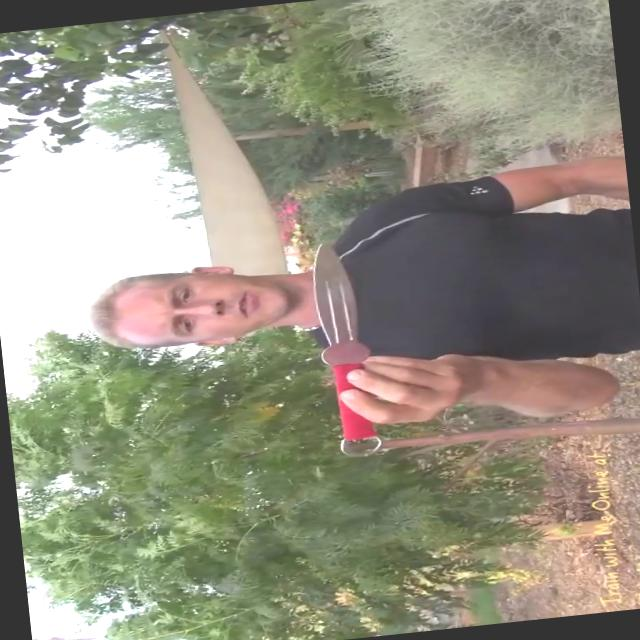knife: (292, 224, 404, 468)
